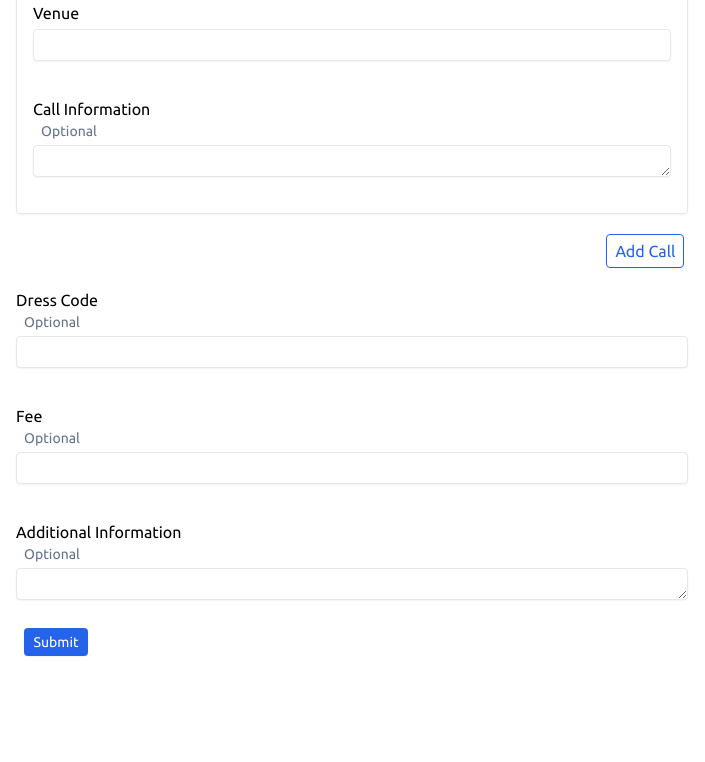
Test: <CreateEventForm /> › all err messages are in the document on submit btn click
(page scrolled)
Click the button with test id "submit-btn" at (56, 642), box [24,628,88,656]
(page scrolled)
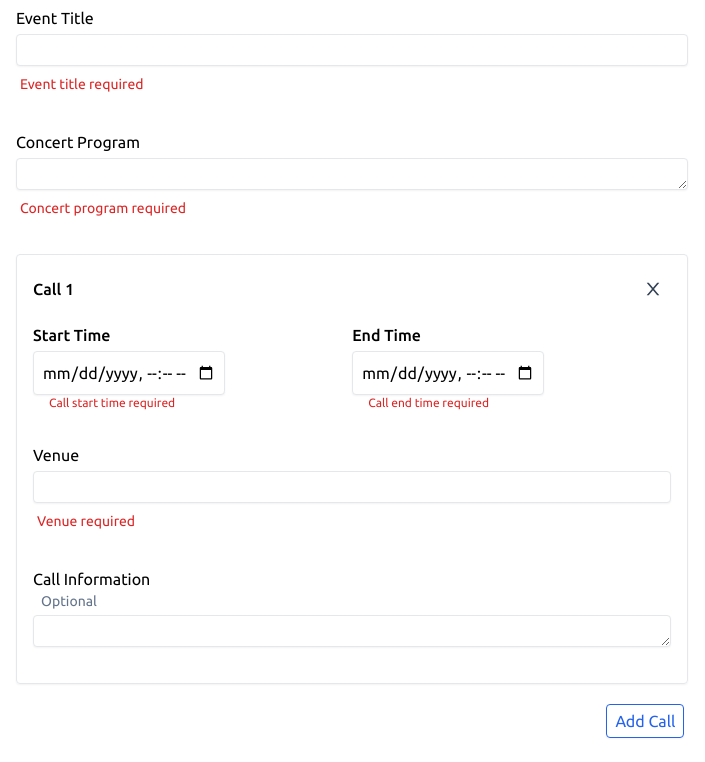
expect the element with test id "create-event-form" shows "Concert program required": met, box [20,200,186,216]
expect the element with test id "create-event-form" shows "Call start time required": met, box [49,396,175,409]
expect the element with test id "create-event-form" shows "Call end time required": met, box [368,396,489,409]
